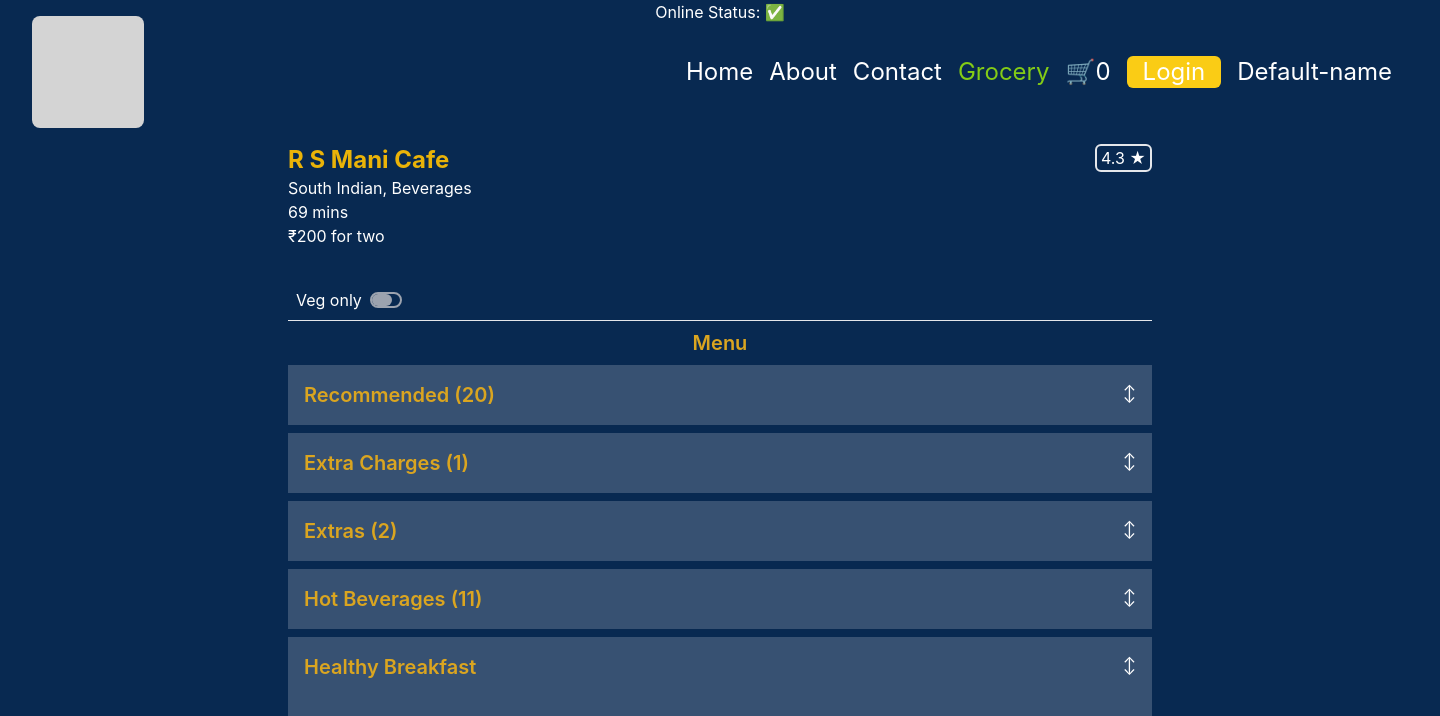
Scenario: should render the R S Mani Cafe menu with functionable add btn and cart › should display no. of cart-items in header on clicking the add btn
The image size is (1440, 716).
Expected: the link "🛒0" is shown, [1066,57,1111,86]
Click the heading "Recommended (20)" at [399, 395], box [304,381,495,409]
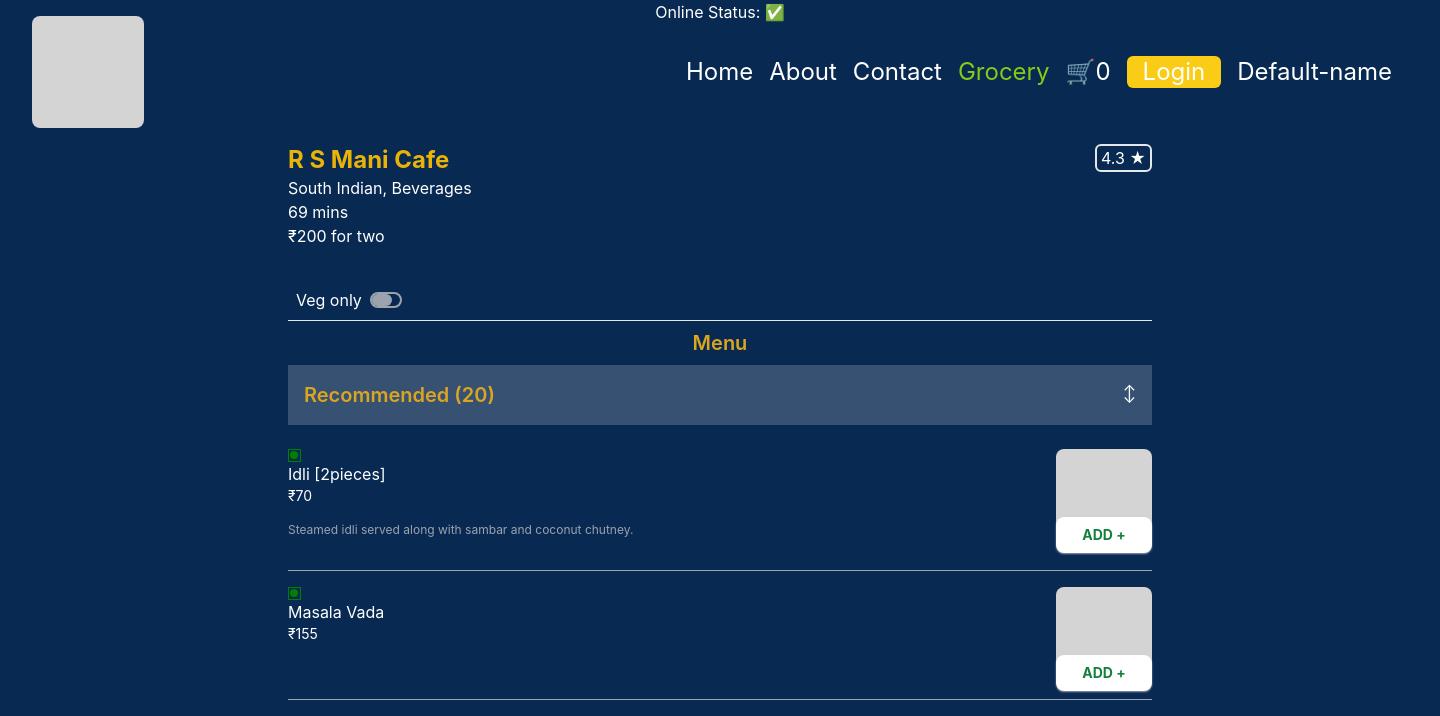
Click the 1st button "ADD +" at [1104, 535], box [1074,525,1134,545]
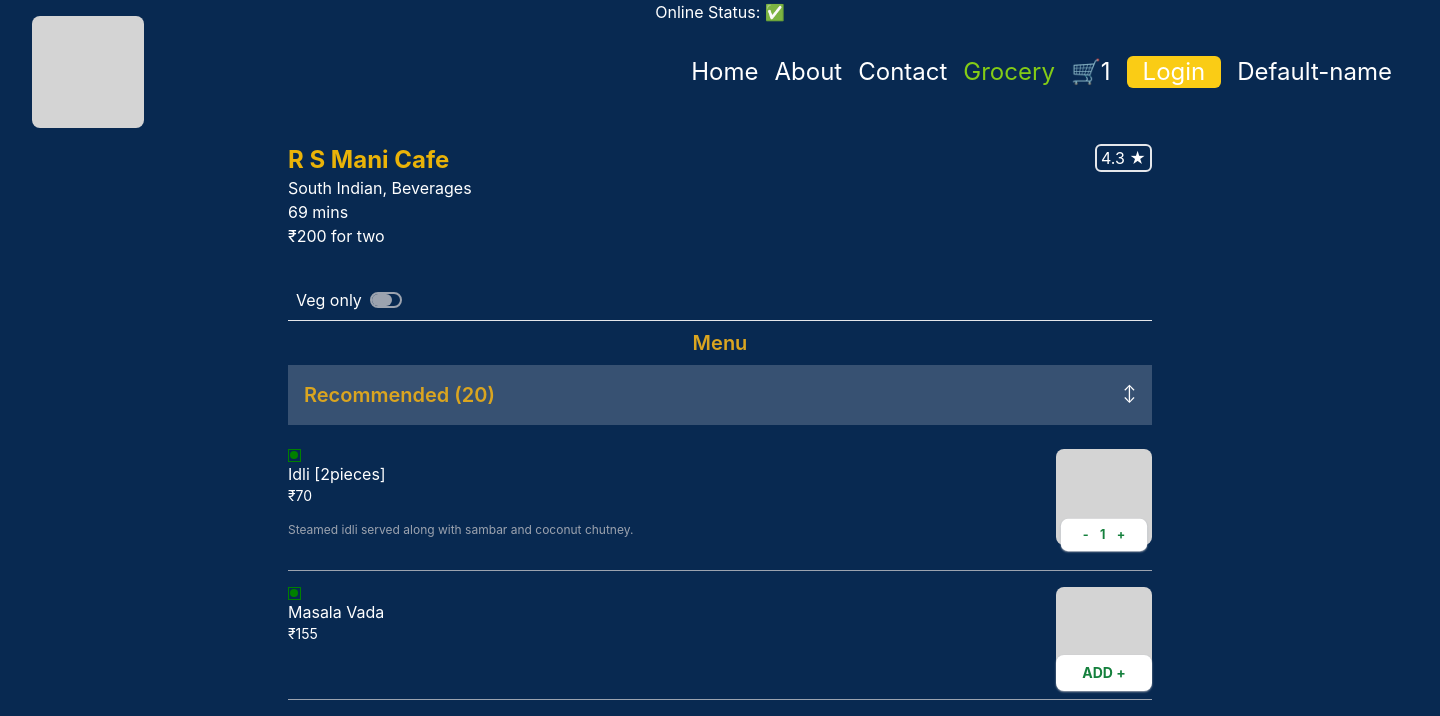
Click the 1st button "ADD +" at [1104, 673], box [1074,663,1134,683]
(page scrolled)
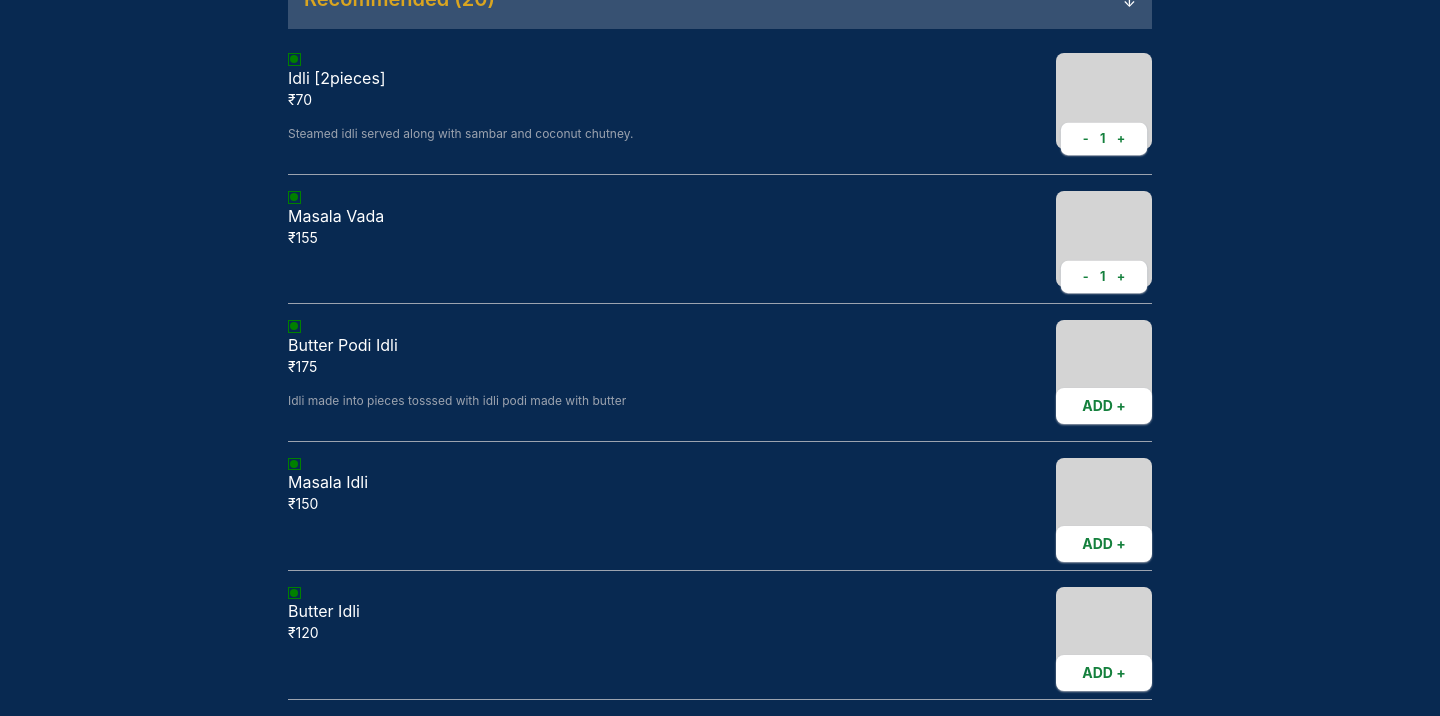
Click the 1st button "ADD +" at [1104, 406], box [1074,396,1134,416]
(page scrolled)
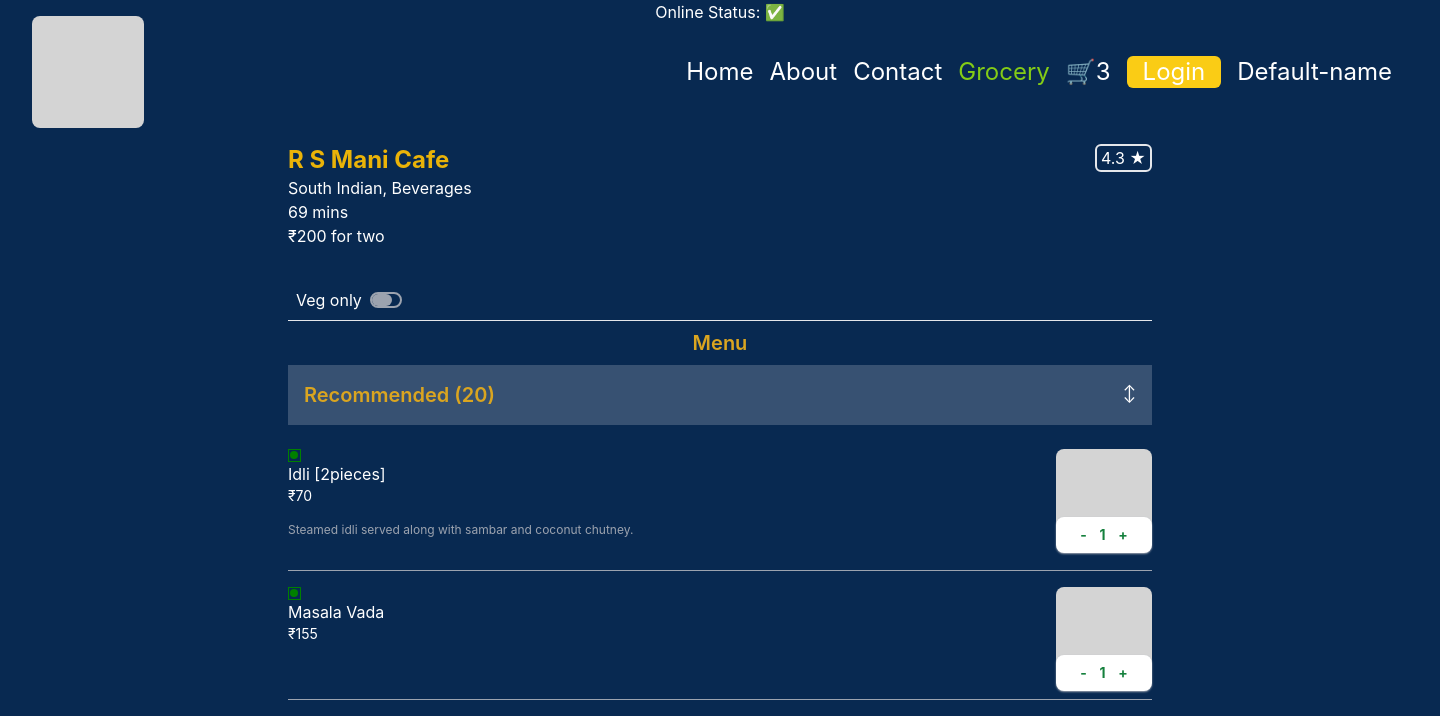
Expected: the link "🛒3" is shown, [1066,57,1111,86]
